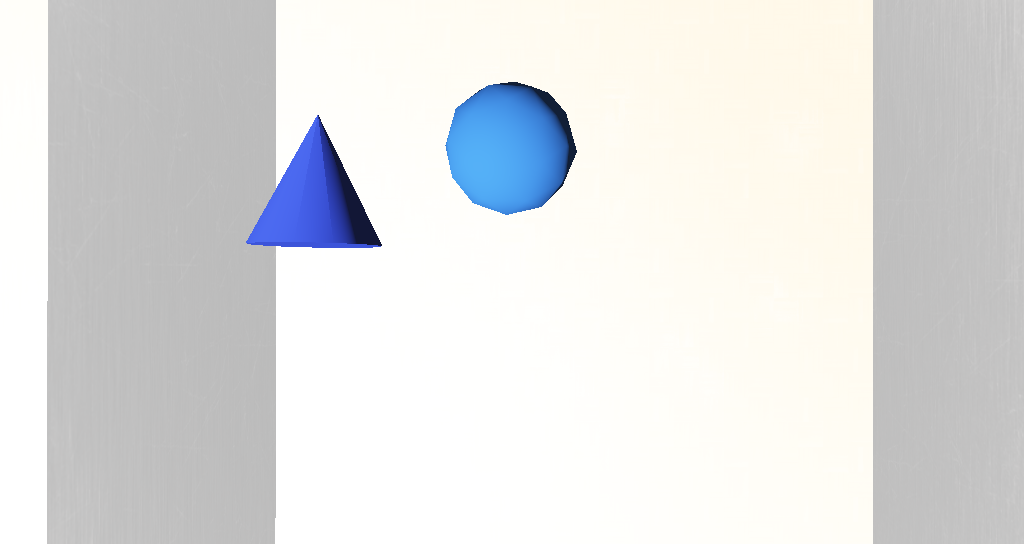cone: (829, 327, 896, 379)
cylinder: (344, 210, 411, 258)
sphere: (438, 208, 505, 251)
